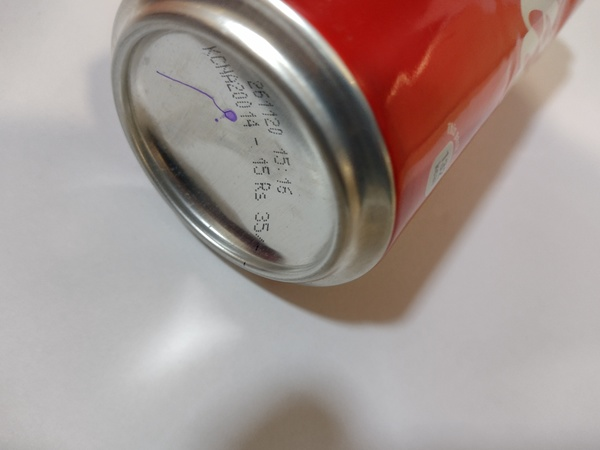can: (101, 3, 591, 291)
